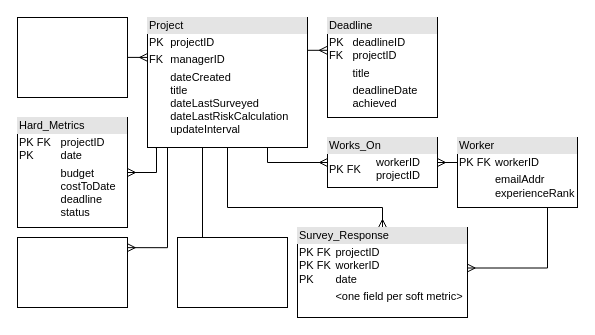
Some shapes in this 595 by 335 pixel diagram are drawn without their labels. Here are the shapes that lost their labels. From the top down, the centre of each, then its label:
At point (72, 57): "Manager PK managerID emailAddr firstName hashedPW".
At point (72, 272): "Risk PK FK PK projectID date riskLevel".
At point (232, 272): "Git_Link PK FK projectID gitToken repositoryURL".
